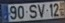0: (16, 5, 24, 20)
1: (48, 3, 52, 17)
2: (52, 2, 59, 17)
9: (8, 5, 16, 20)
S: (28, 4, 37, 19)
V: (36, 3, 45, 18)
